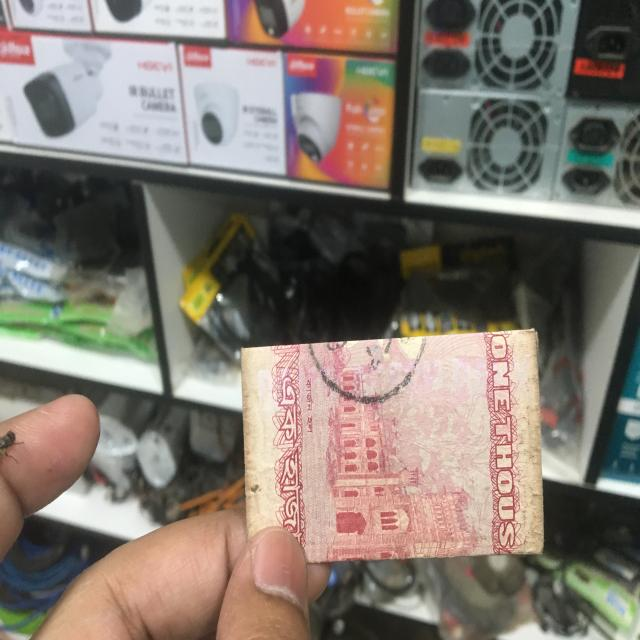Taka: (242, 344, 542, 554)
